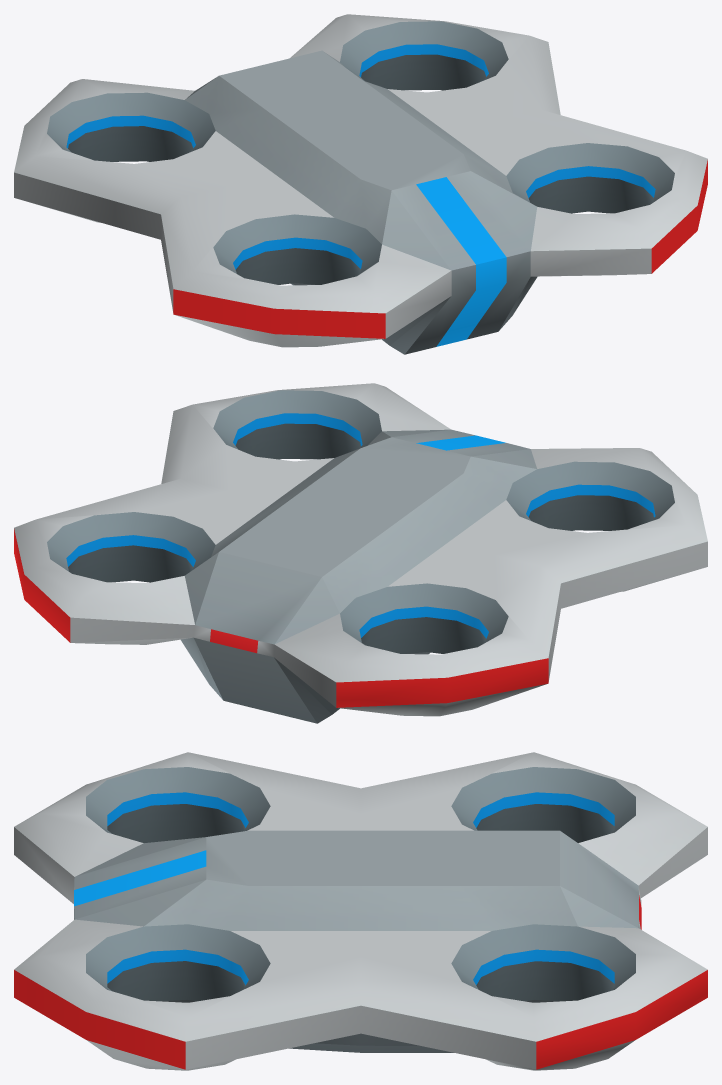
Rendered from Delivery_drone_011.glb.
3 renders of one model, top to bottom at view 1: azimuth 30°, elevation 25°; view 2: azimuth 150°, elevation 25°; view 3: azimuth 270°, elevation 25°, orthographic. The views are drawn at different scales.
Parts seen in each view (by area): view 1: Delivery_drone_011; view 2: Delivery_drone_011; view 3: Delivery_drone_011.
Part boxes in pixels (x1=…): Delivery_drone_011: x1=14, y1=14, x2=707, y2=354; Delivery_drone_011: x1=14, y1=383, x2=707, y2=723; Delivery_drone_011: x1=14, y1=752, x2=707, y2=1070.
Bounding box in the file's own units: 1.12 × 0.297 × 1.15.
2 materials, 2 textured.
